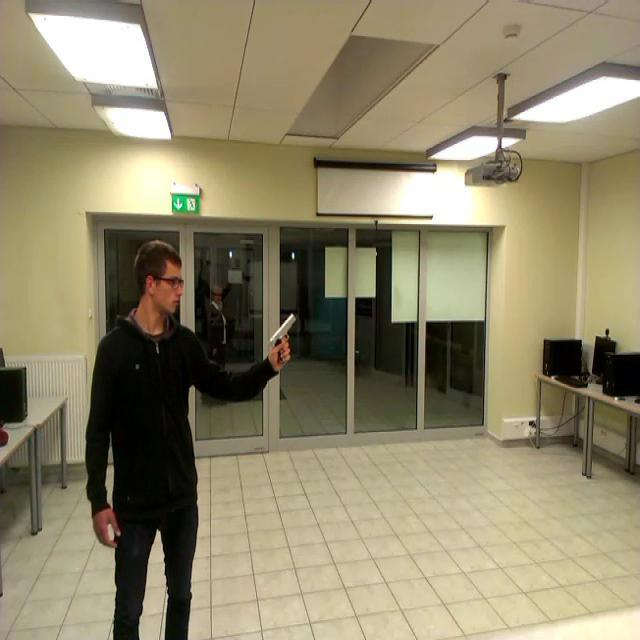weapon: (268, 315, 294, 364)
